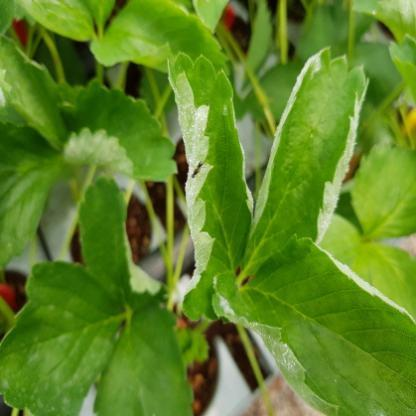Strawberry_Powdery_Mildew_Leaf: (211, 234, 415, 415), (239, 45, 370, 278), (166, 50, 254, 324), (61, 77, 178, 183)
